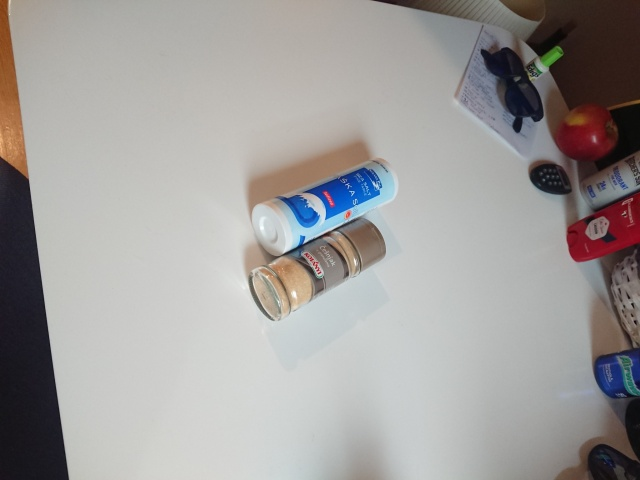Kotanyi Garlic Granules 70g: (245, 216, 388, 323)
Solana Pag Fine Sea Salt 250g: (249, 155, 402, 258)
